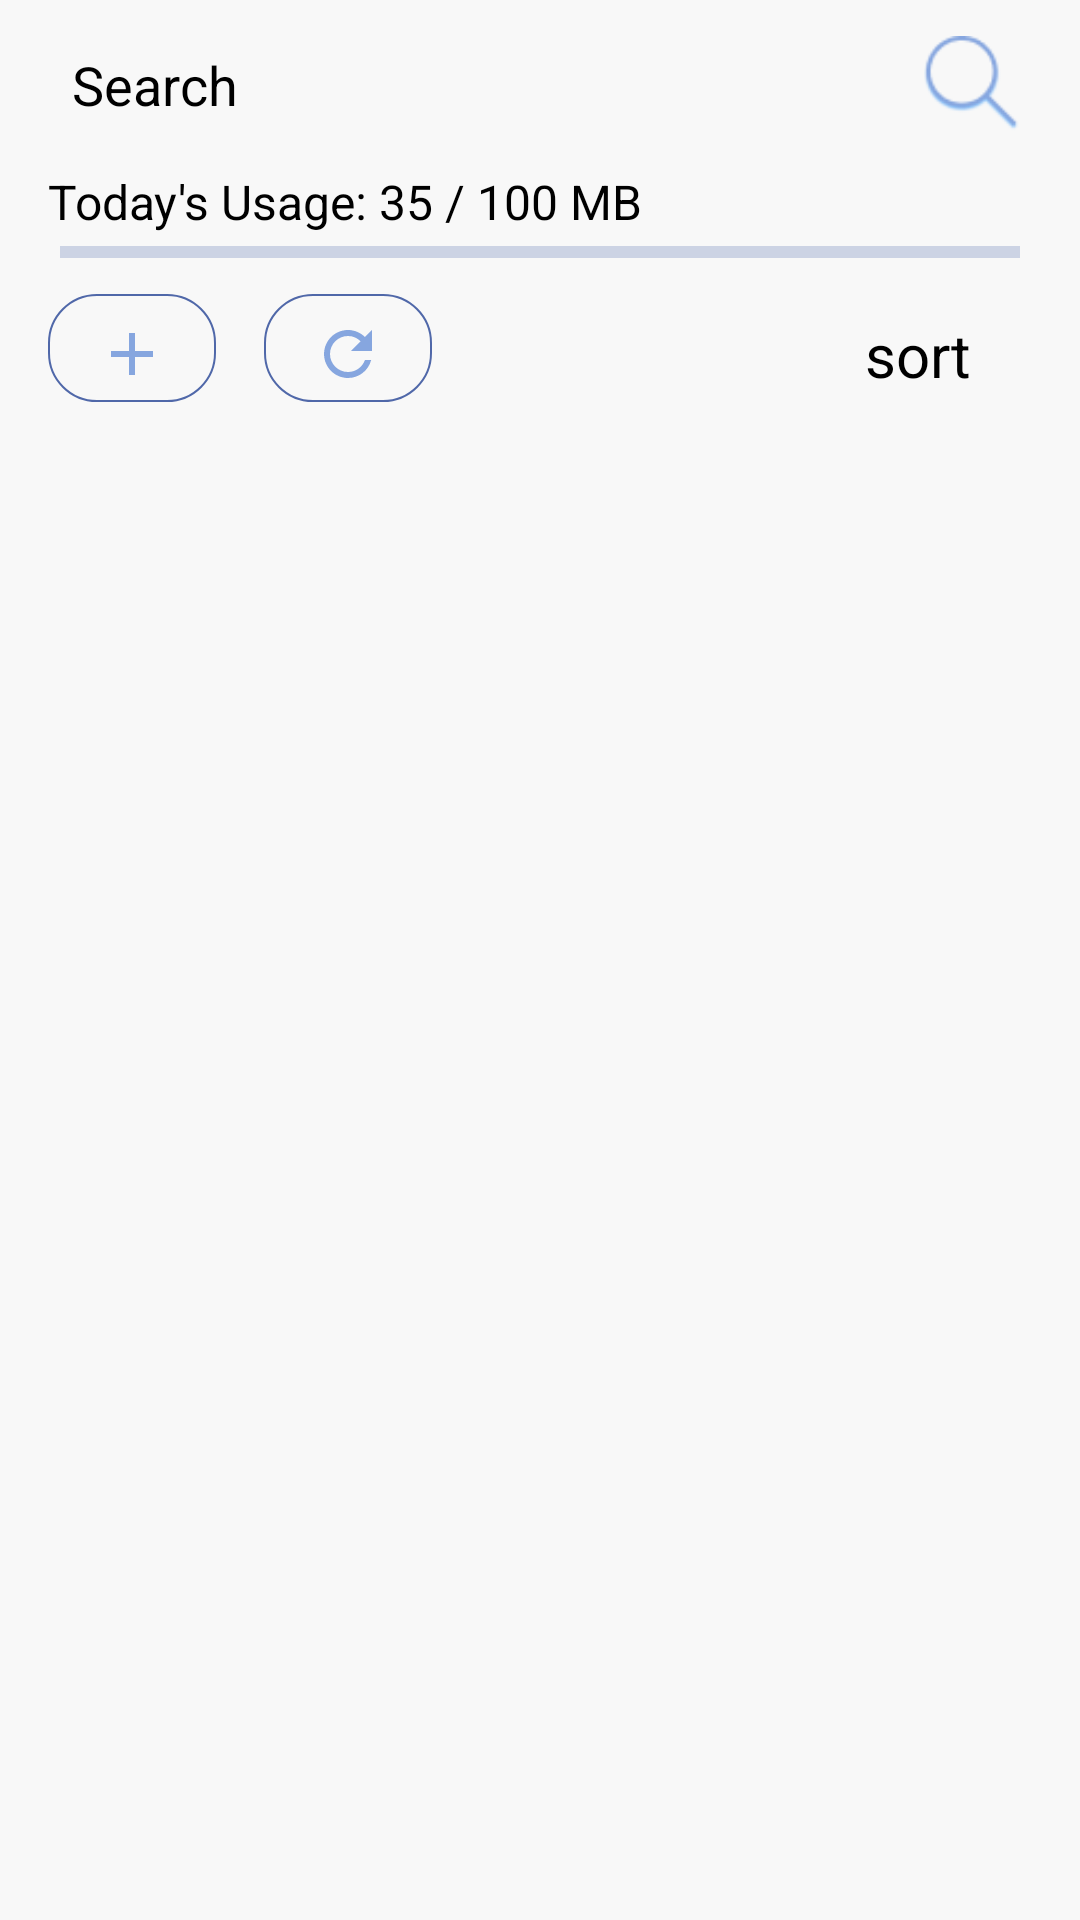

Icon click points for this 1080 × 1920 phone screenshot, format (x=x, y=y):
add: (x=132, y=348)
refresh: (x=348, y=348)
